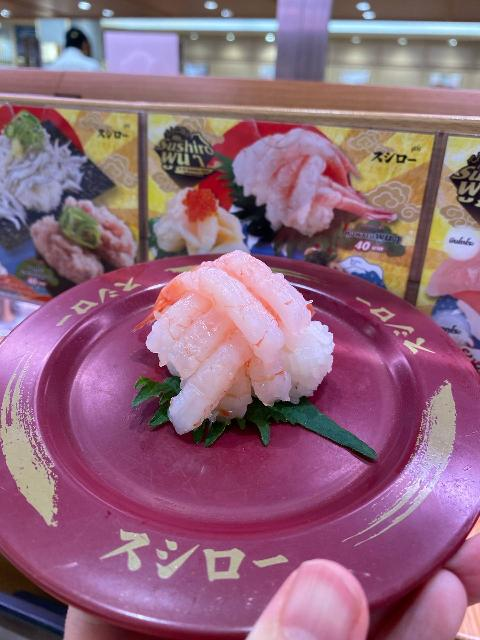janred: (10, 286, 480, 605)
